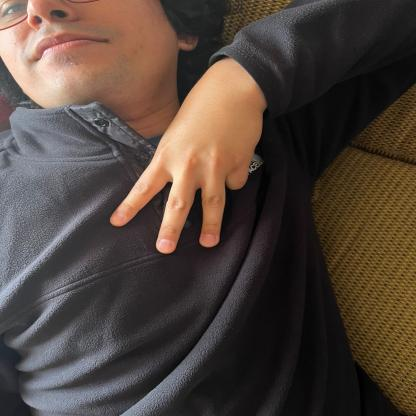M: (111, 45, 265, 262)
